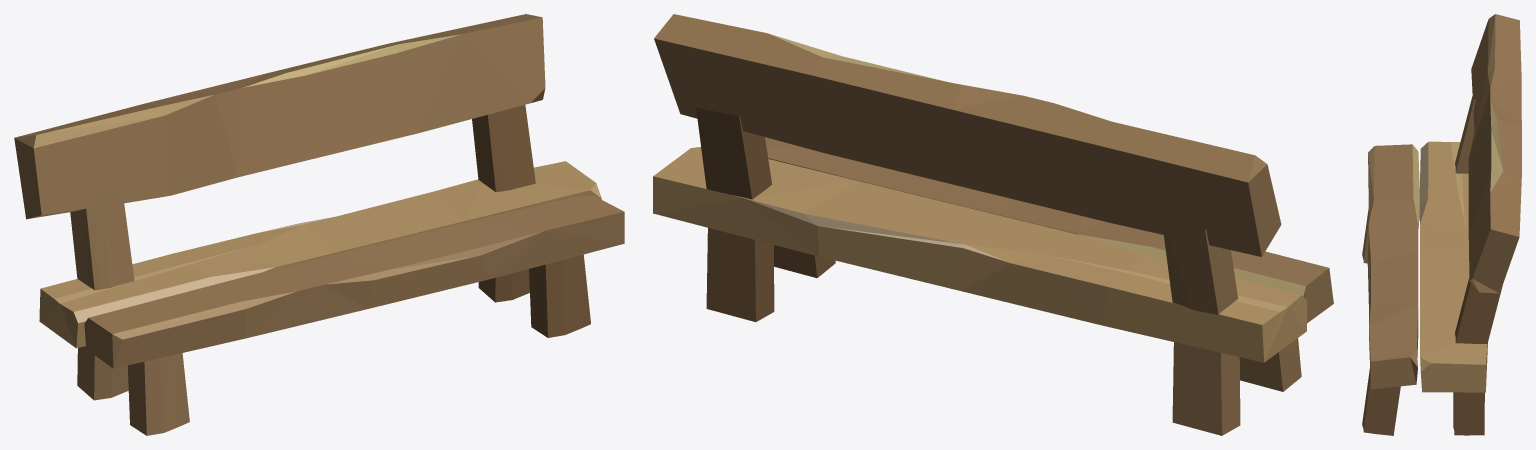
Rendered from garden-bench.glb.
3 renders of one model, left to right at view 1: azimuth 30°, elevation 25°; view 2: azimuth 150°, elevation 25°; view 3: azimuth 270°, elevation 25°, orthographic. The views are drawn at different scales.
Parts seen in each view (by area): view 1: EA_M_Furniture_Bench_Wooden_01; view 2: EA_M_Furniture_Bench_Wooden_01; view 3: EA_M_Furniture_Bench_Wooden_01.
Boxes of the visible parts, box(x1,y1,x2,y2) form: EA_M_Furniture_Bench_Wooden_01: box(14, 14, 624, 435); EA_M_Furniture_Bench_Wooden_01: box(653, 14, 1333, 435); EA_M_Furniture_Bench_Wooden_01: box(1362, 14, 1521, 435).
Bounding box in the file's own units: 2.91 × 1.36 × 0.8752.
